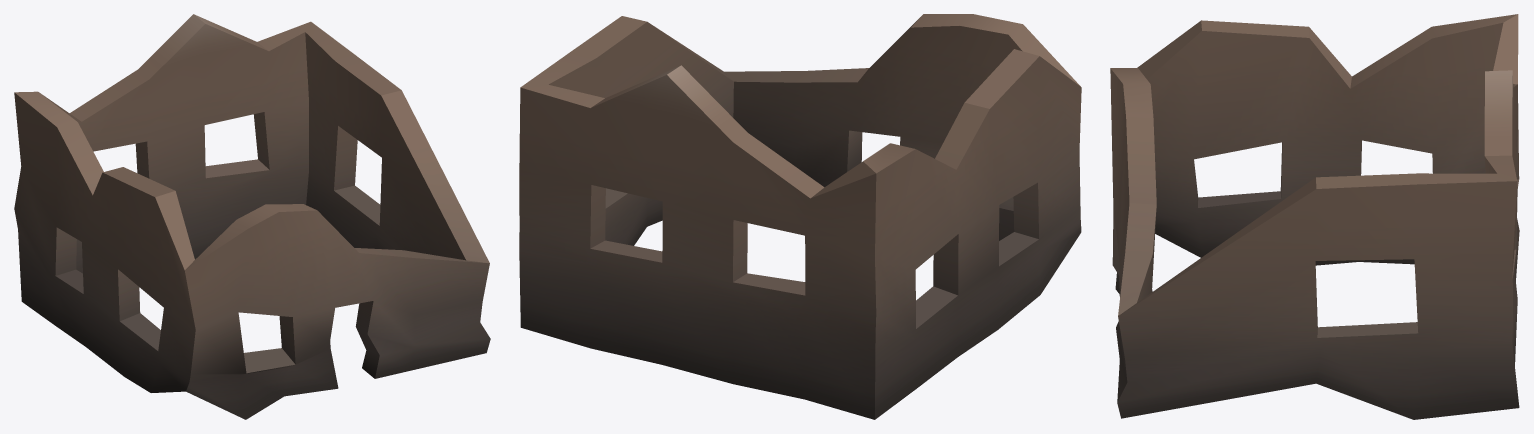
Rendered from Building_T07.fbx.
The picture shows the model from 3 angles, left to right: view 1: azimuth 30°, elevation 25°; view 2: azimuth 150°, elevation 25°; view 3: azimuth 270°, elevation 25°; orthographic projection. The views are drawn at different scales.
Visible parts, largest first — view 1: Building_T07; view 2: Building_T07; view 3: Building_T07.
Boxes of the visible parts, x1,y1,x2,y2 form: Building_T07: (14, 14, 490, 419); Building_T07: (519, 14, 1081, 419); Building_T07: (1110, 14, 1519, 419).
Bounding box in the file's own units: 20.27 × 15.88 × 20.57.
